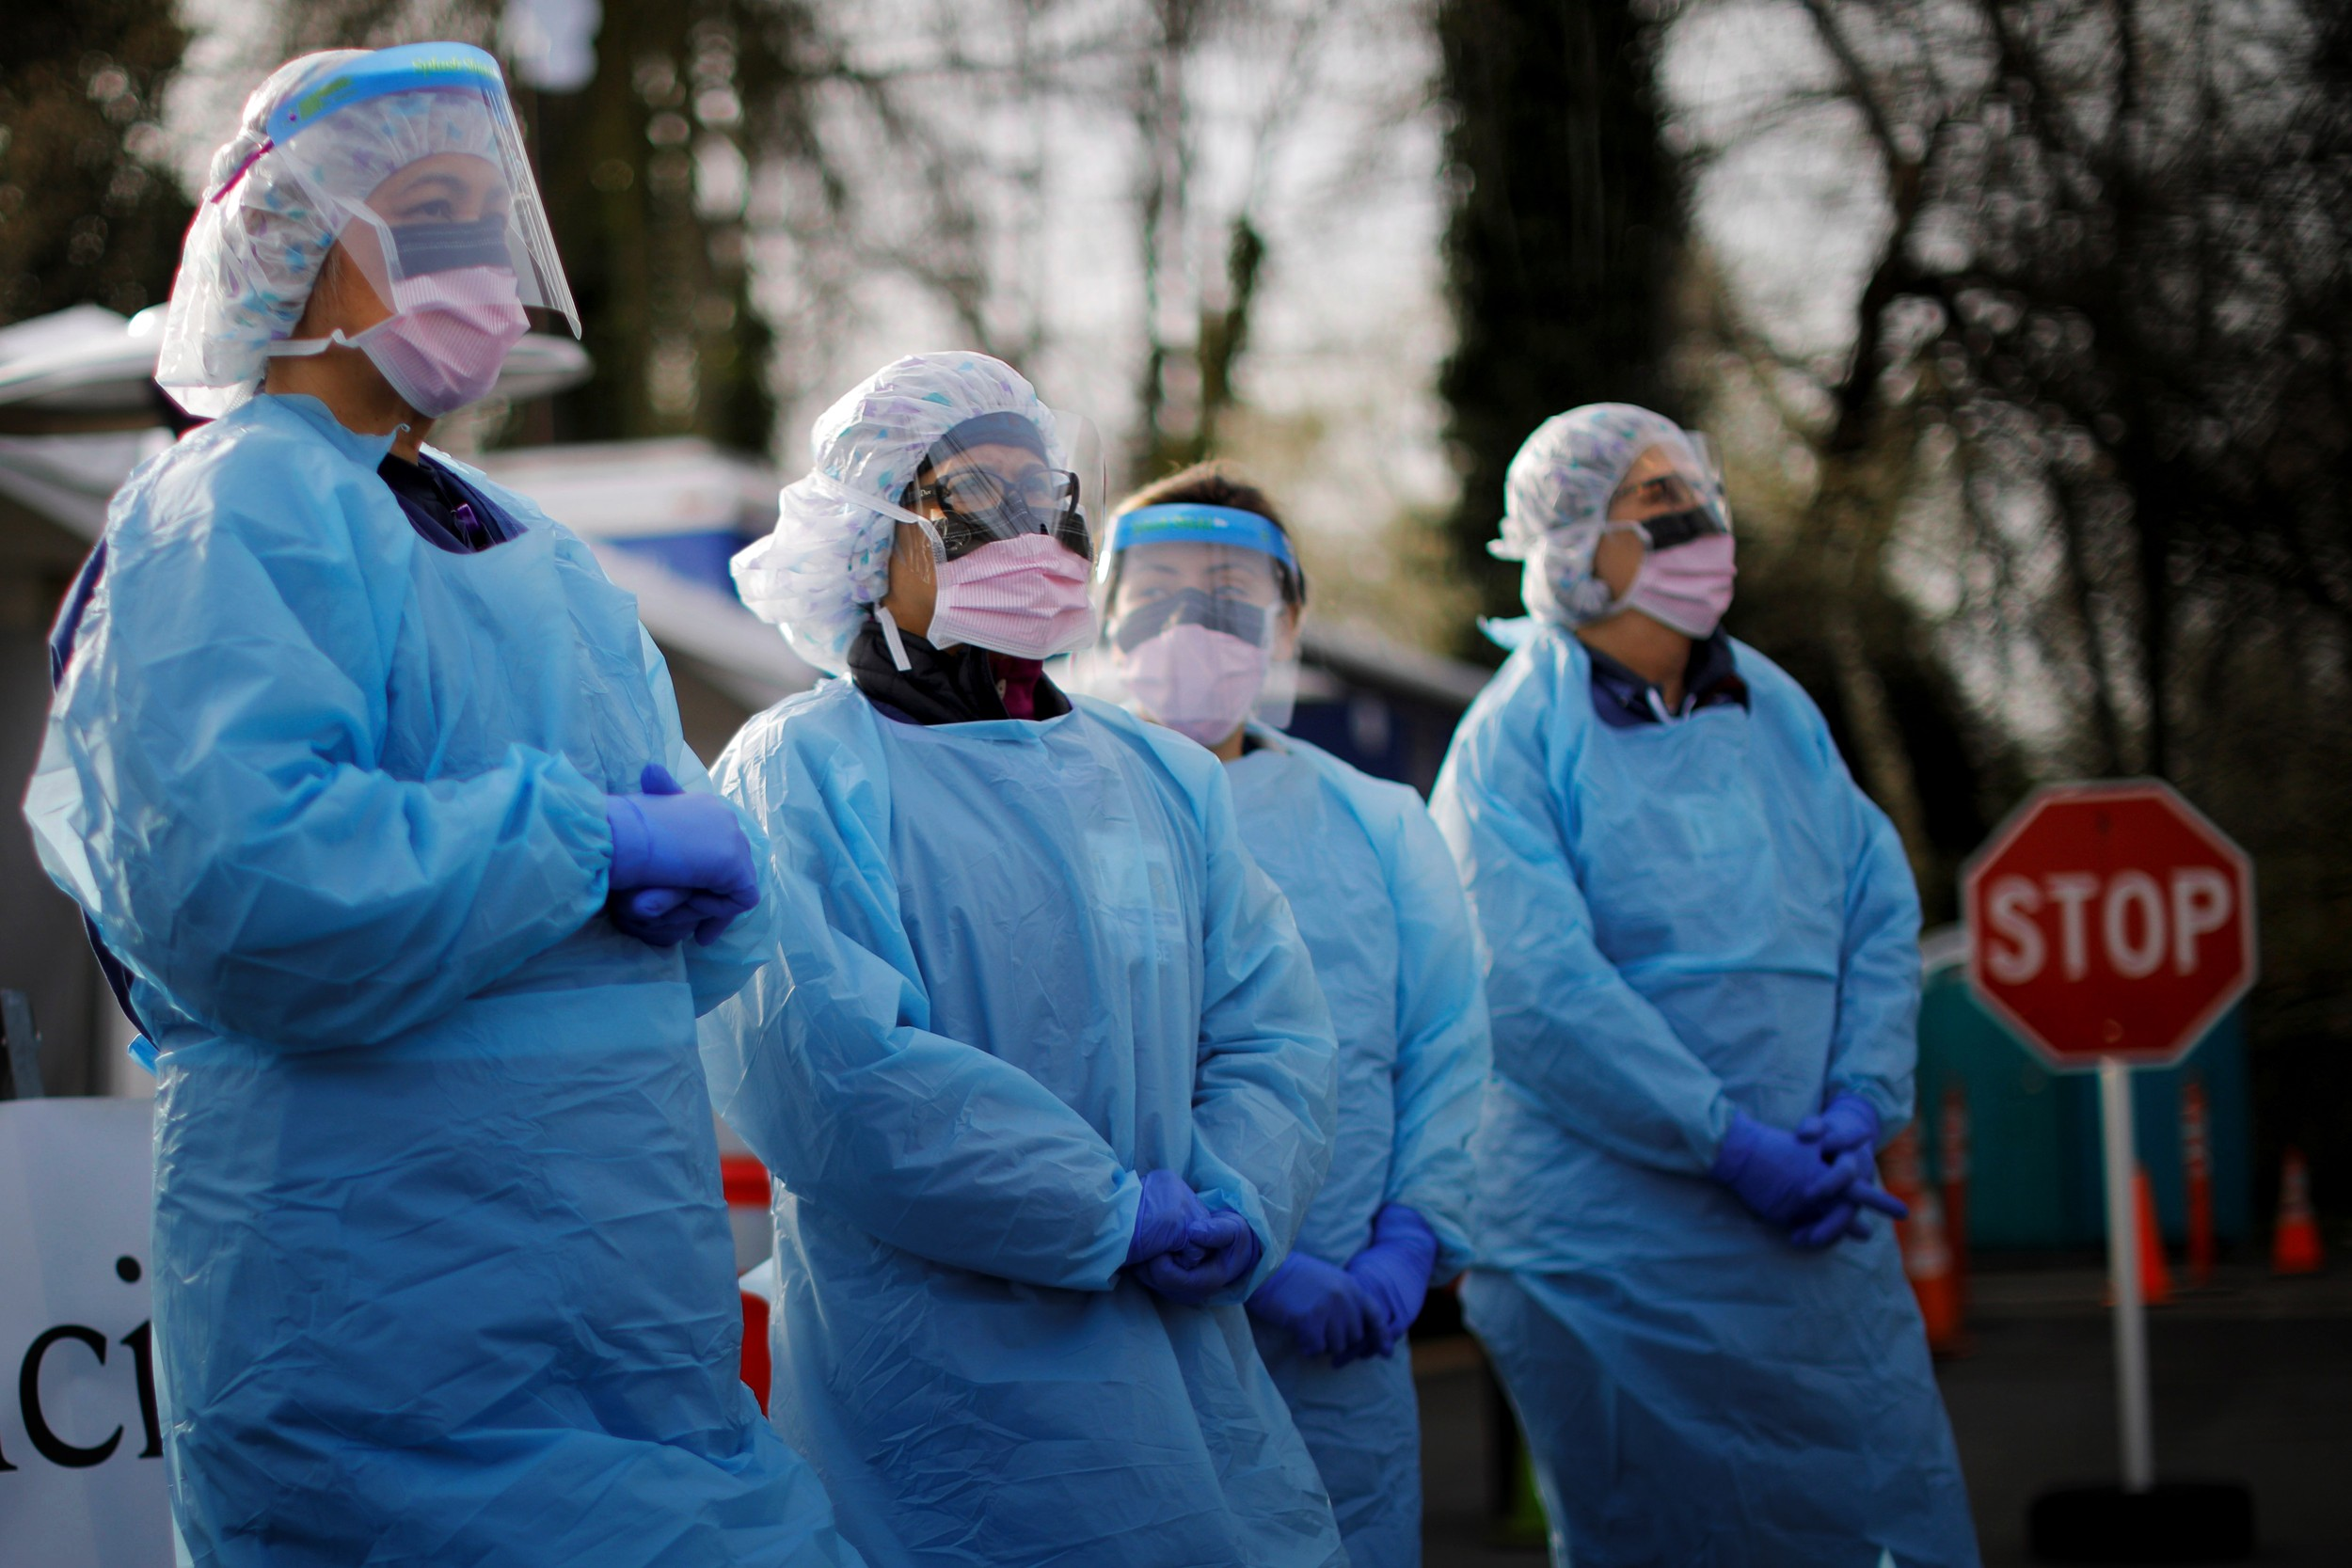Coverall: (11, 404, 756, 1568), (682, 644, 1343, 1568), (1415, 644, 1989, 1568), (1082, 718, 1478, 1565)
Face_Shield: (262, 34, 591, 352), (914, 397, 1106, 687), (1091, 501, 1308, 740), (1587, 431, 1745, 624)
Gloves: (1697, 1079, 1926, 1267), (1254, 1206, 1453, 1376), (594, 761, 761, 952), (1127, 1173, 1269, 1305)
with_mask: (362, 186, 540, 420), (903, 468, 1097, 661), (1115, 578, 1269, 746), (1613, 479, 1740, 641)
